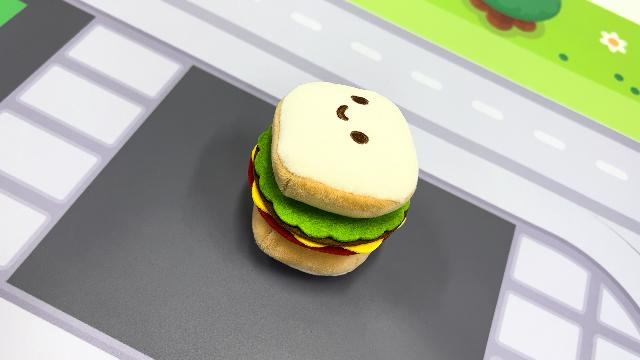sandwich: (245, 78, 421, 278)
